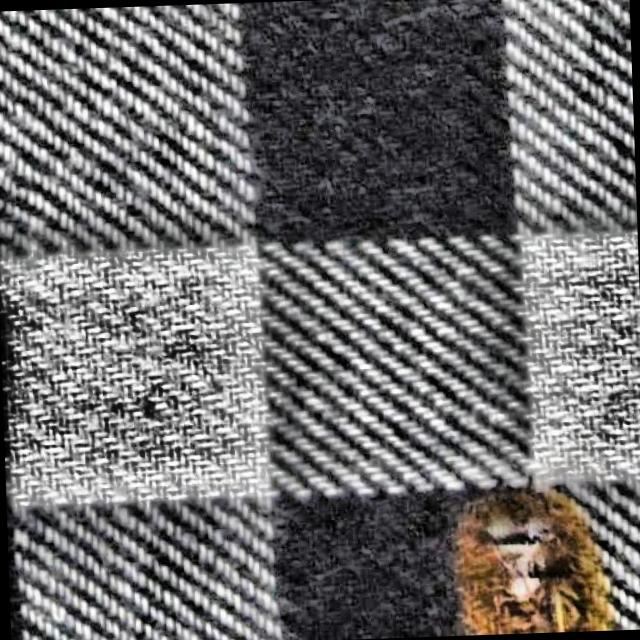cut: (443, 488, 609, 635)
